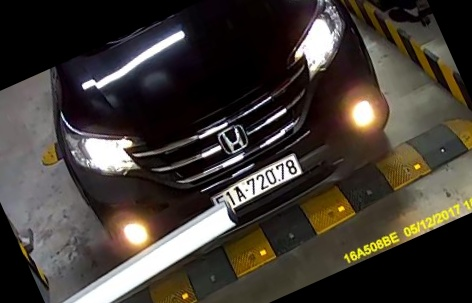plate: (206, 153, 305, 216)
